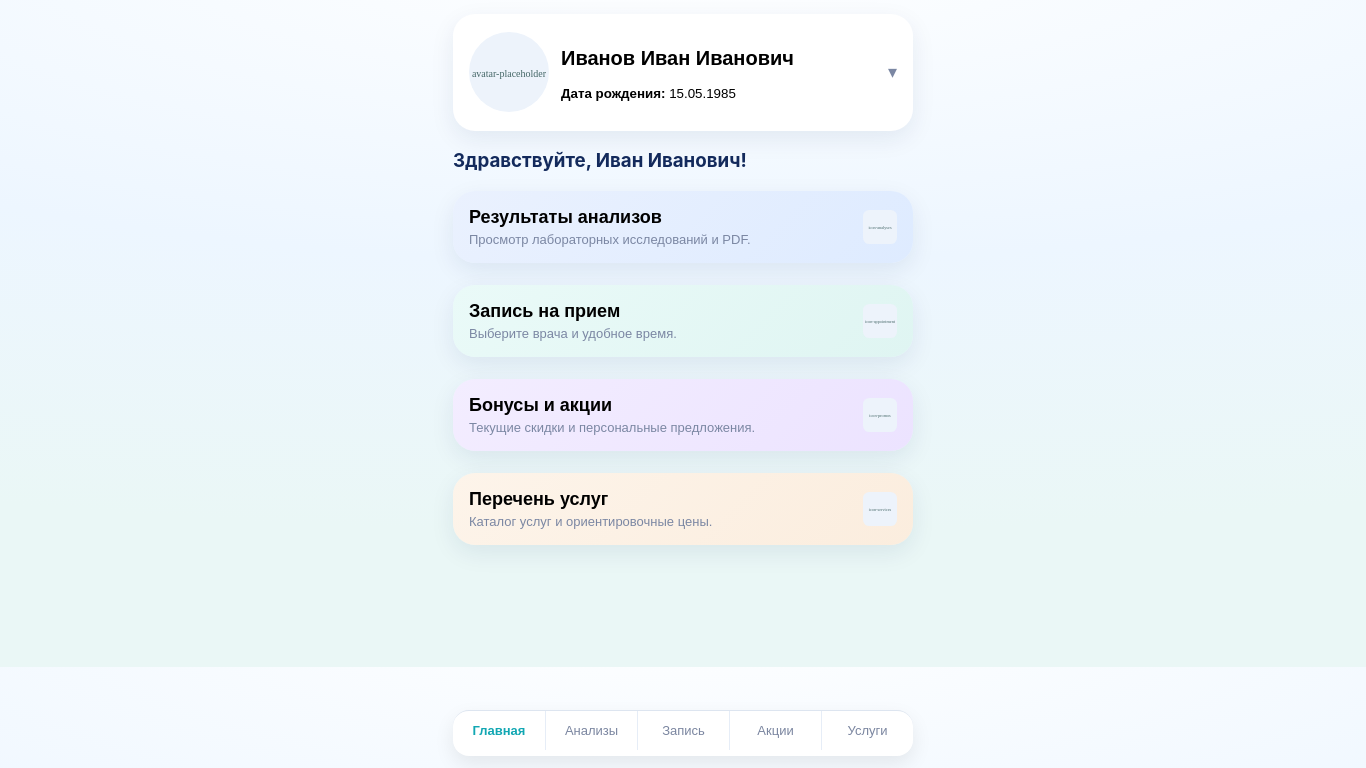
Test: mini app redesign › показывает профиль и карточки разделов на HomeScreen
expect the heading "Иванов Иван Иванович" is shown: met, box [561, 47, 794, 69]
expect the heading "Результаты анализов" is shown: met, box [469, 207, 662, 227]
Click the button named "Аватар пациента": {"x": 509, "y": 72} [469, 30, 897, 114]
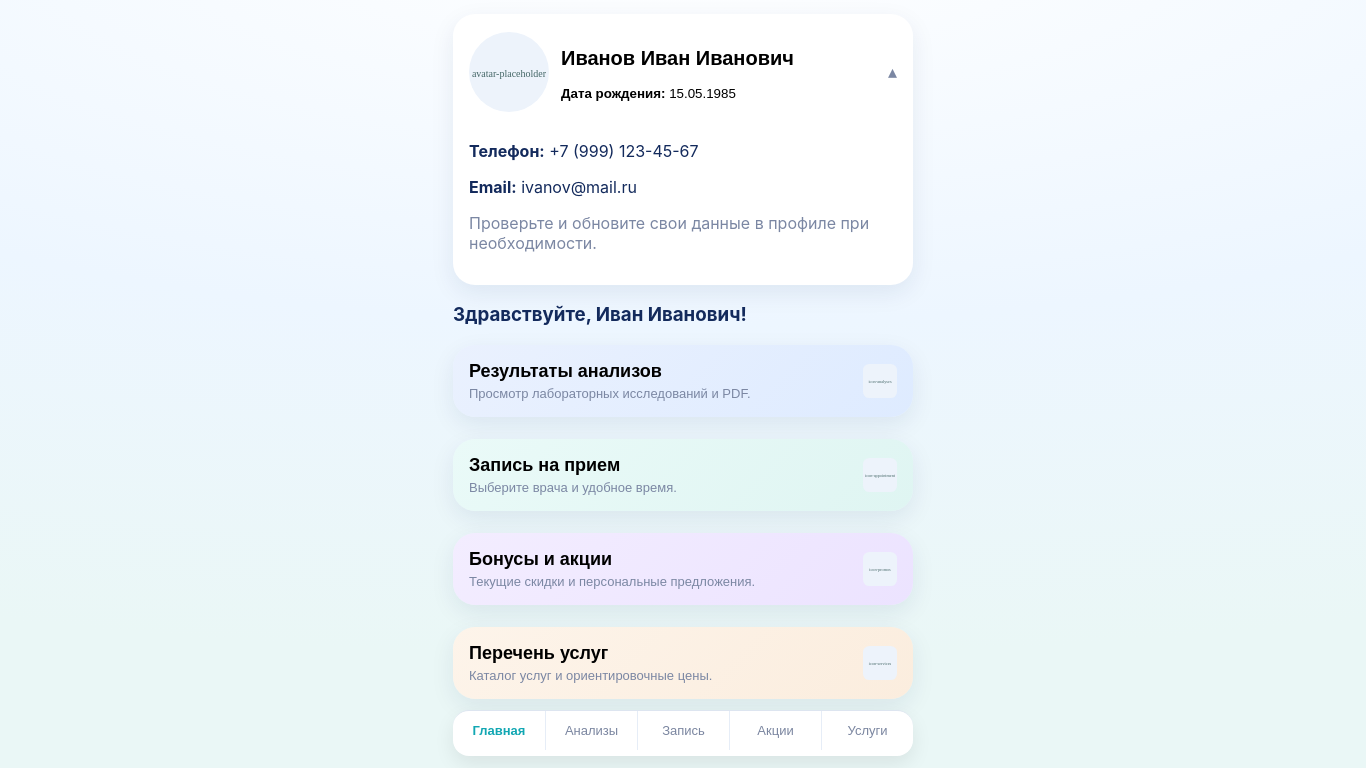
expect the text "ivanov@mail.ru" is shown: met, box [521, 176, 637, 196]
